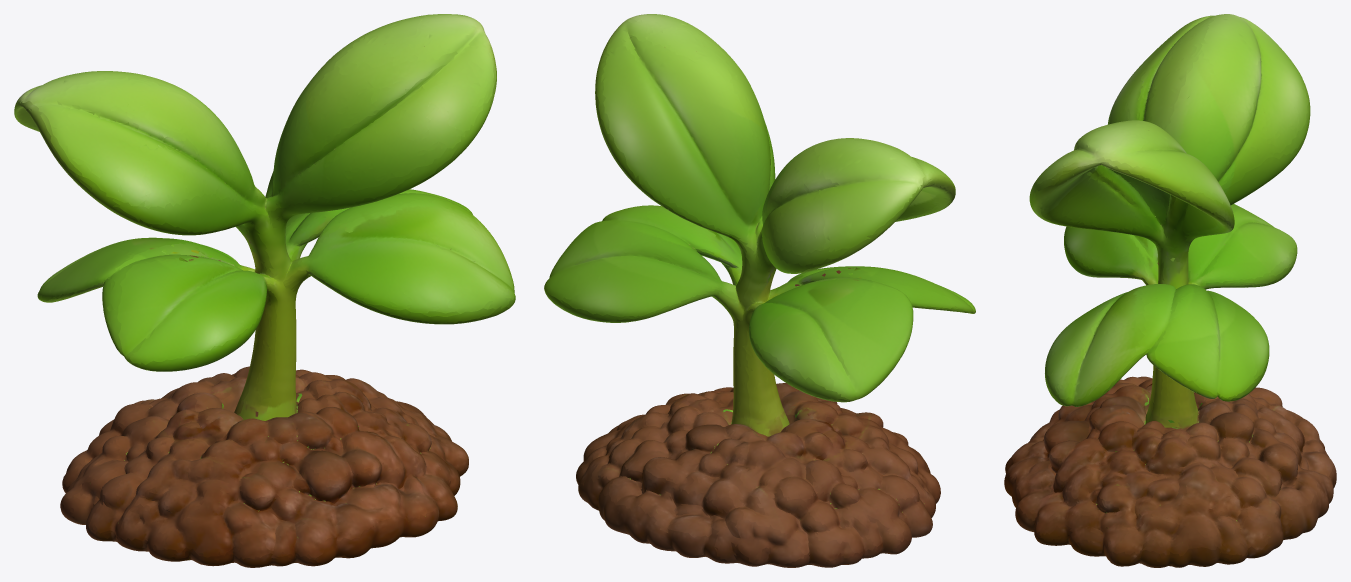
File: shared-seedling-v1.glb
3 views of the same model, side by side, from view 1: azimuth 30°, elevation 25°; view 2: azimuth 150°, elevation 25°; view 3: azimuth 270°, elevation 25° (orthographic). The views are drawn at different scales.
Visible parts, largest first — view 1: geometry_0; view 2: geometry_0; view 3: geometry_0.
Part boxes in pixels (left/top/right/bottom): geometry_0: left=14, top=14, right=515, bottom=567; geometry_0: left=544, top=14, right=975, bottom=567; geometry_0: left=1004, top=14, right=1336, bottom=567.
Size of the model in its own units: 0.1717 by 0.18 by 0.1283.
1 material, 1 textured.
